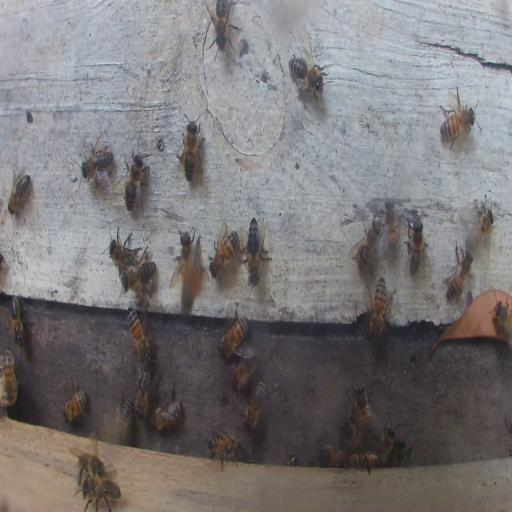bee: (288, 42, 327, 100), (178, 238, 206, 315), (79, 134, 115, 187), (177, 112, 203, 184), (245, 214, 270, 286), (122, 149, 150, 212), (209, 227, 241, 279), (445, 243, 473, 301), (350, 218, 378, 274), (438, 101, 476, 141), (80, 474, 120, 512), (151, 386, 183, 432), (403, 215, 427, 274), (368, 274, 389, 340), (208, 431, 243, 469), (123, 259, 156, 299), (107, 228, 138, 270), (128, 309, 152, 363), (220, 312, 247, 360), (243, 378, 267, 432), (465, 206, 494, 250), (207, 0, 232, 49), (7, 171, 31, 216), (64, 382, 89, 423), (2, 349, 18, 411), (380, 196, 398, 251), (354, 384, 376, 428), (135, 364, 151, 422), (232, 357, 257, 391), (492, 301, 512, 340), (318, 438, 345, 466), (379, 424, 397, 461), (118, 398, 133, 442), (78, 451, 103, 477), (11, 296, 24, 345), (342, 420, 362, 450), (392, 439, 414, 464), (350, 452, 379, 470), (284, 452, 297, 466)
